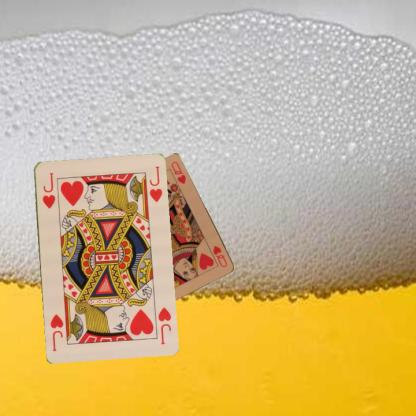Jh: (39, 170, 56, 209), (156, 304, 172, 345)
Qh: (210, 242, 229, 268)
